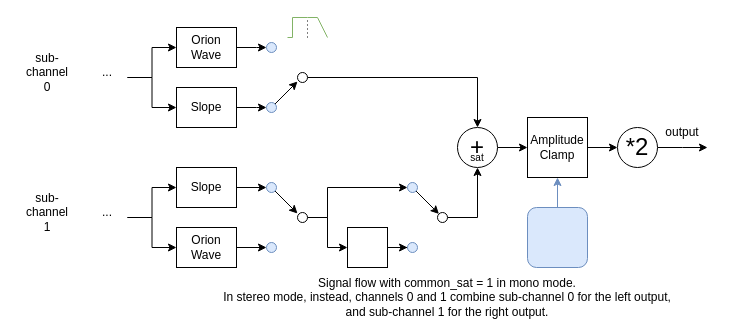
This 733x336 diagram has some shape labels left out. Here are the shapes that lost their labels. From the top down, the box of each, then its label:
(346, 226, 388, 268): 4 bit
(526, 206, 588, 268): amp
